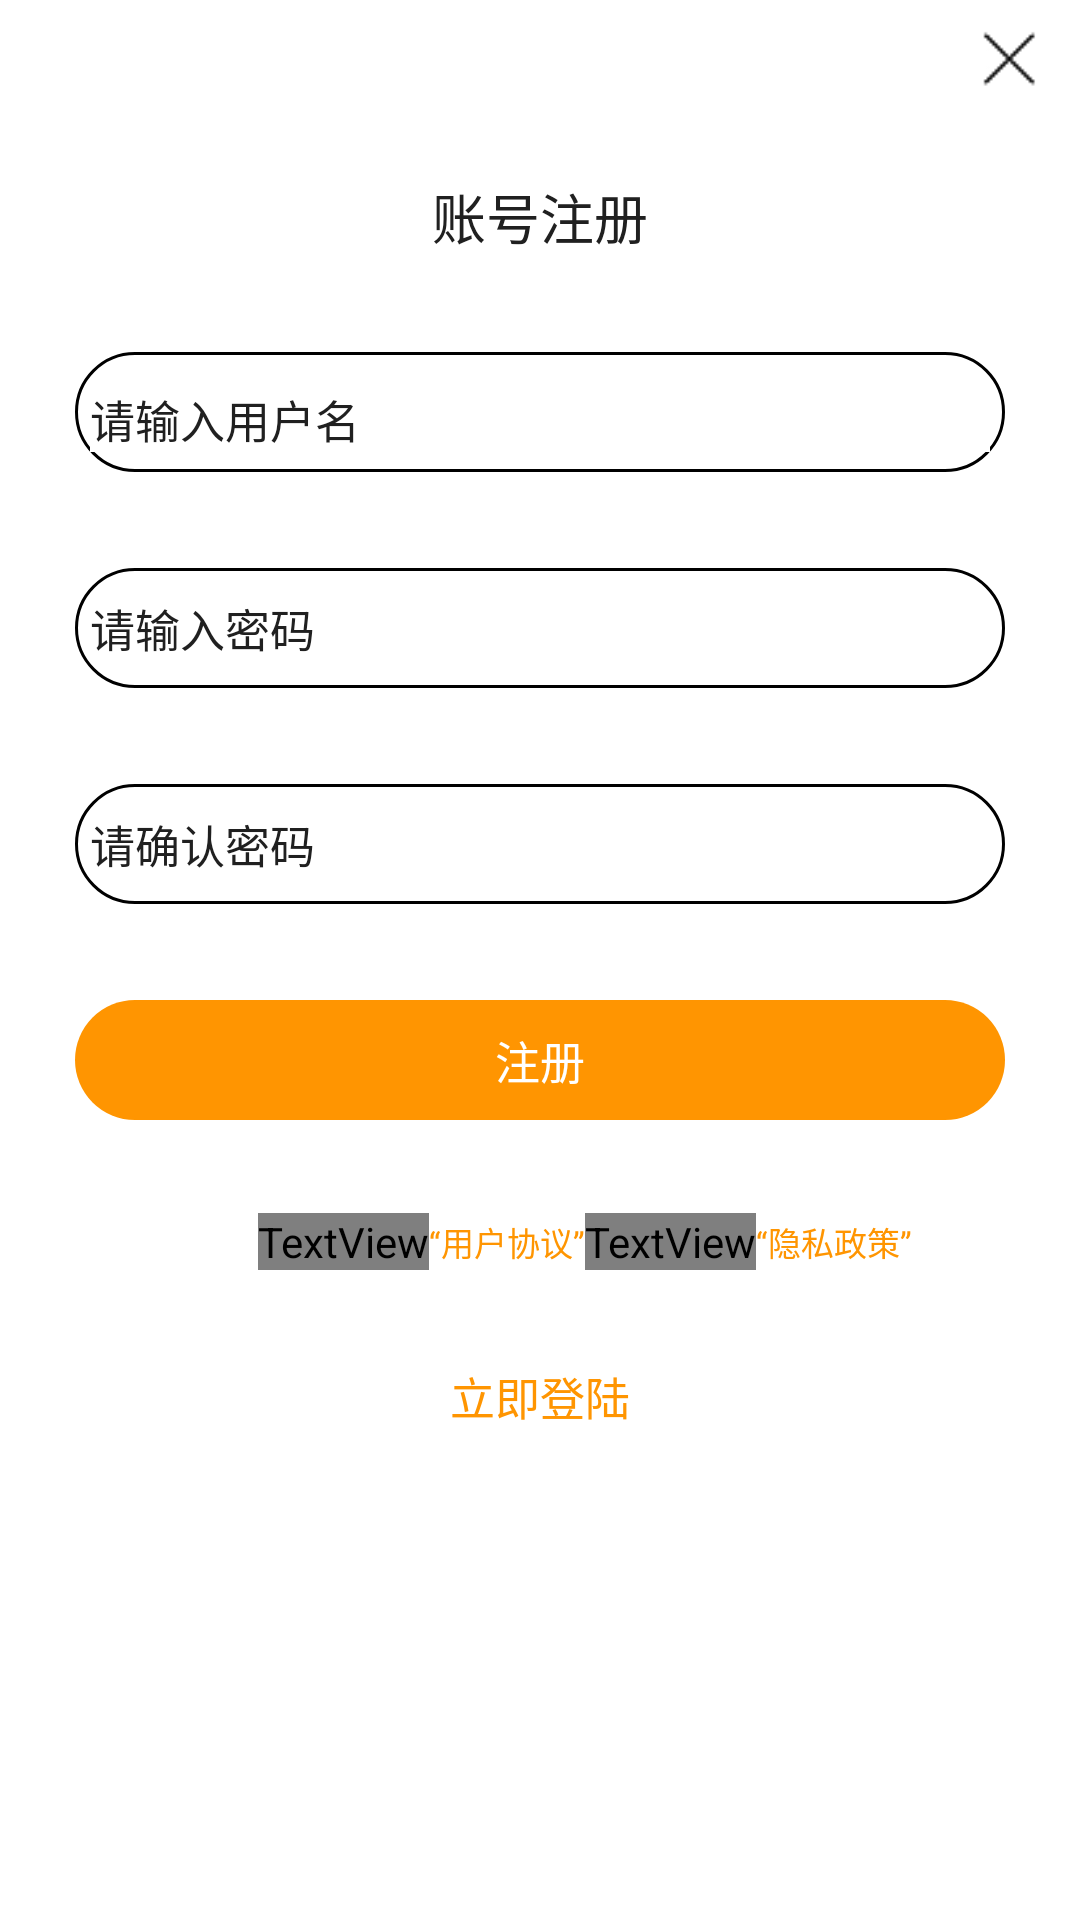

Icons on this 1080*1920 Android screen, each with its box as (x1, y1, x2, y2):
exit: (983, 32, 1035, 86)
